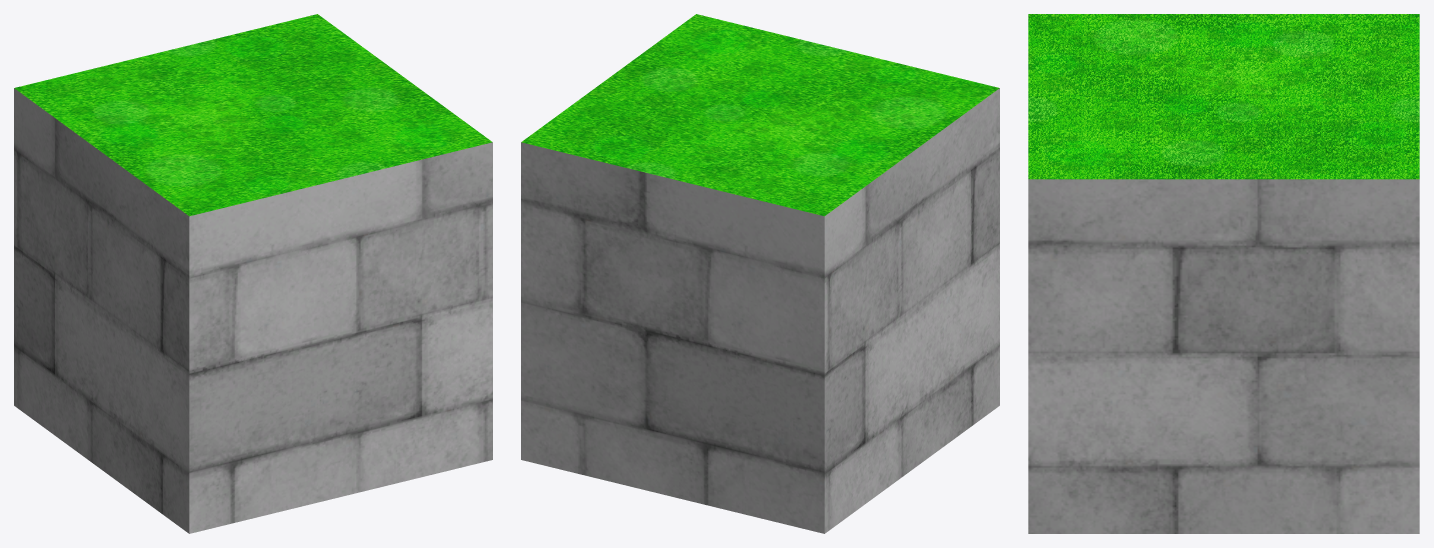
Rendered from level.gltf.
3 renders of one model, left to right at view 1: azimuth 30°, elevation 25°; view 2: azimuth 150°, elevation 25°; view 3: azimuth 270°, elevation 25°, orthographic. The views are drawn at different scales.
Visible parts, largest first — view 1: border; view 2: border; view 3: border.
Part boxes in pixels (box(x1,y1,x2,y2)): border: box(14, 14, 492, 533); border: box(521, 14, 999, 533); border: box(1028, 14, 1419, 533).
Bounding box in the file's own units: 2 × 2 × 2.
Materials: 6 (6 with a texture image).
